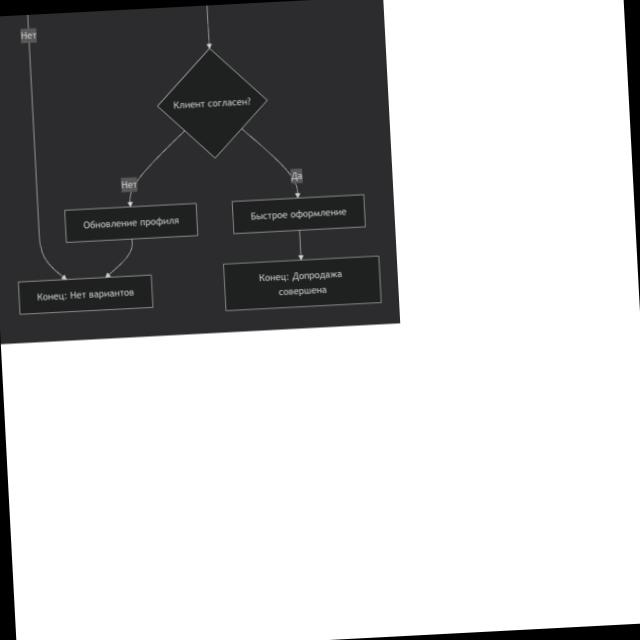arrow: (123, 130, 190, 206), (241, 126, 302, 201), (102, 239, 136, 278), (296, 231, 305, 261)
diamond: (157, 47, 268, 159)
rectangle: (223, 255, 382, 311), (18, 274, 154, 315), (232, 194, 366, 234), (65, 202, 198, 242)
text_region: (21, 31, 38, 42), (121, 180, 137, 190), (291, 169, 303, 182)
